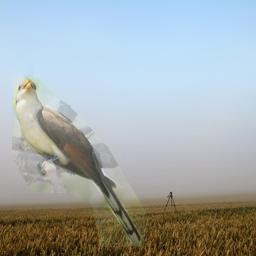Cuckoo: (12, 75, 146, 247)
